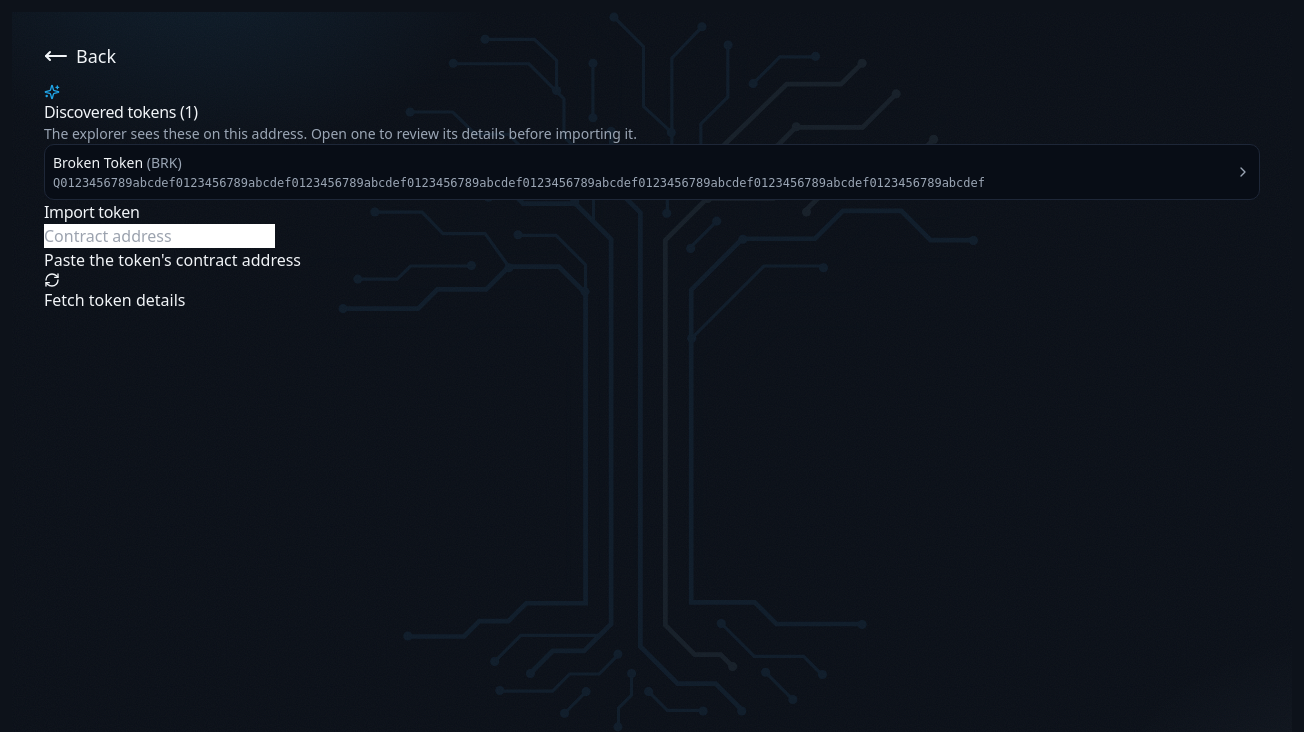
Test: ImportToken › surfaces a failed chain read for a discovered token on the manual field
The image size is (1304, 732).
Click the button with aria-label "Review Broken Token".
click(98, 162)  # box [44,144,1260,200]
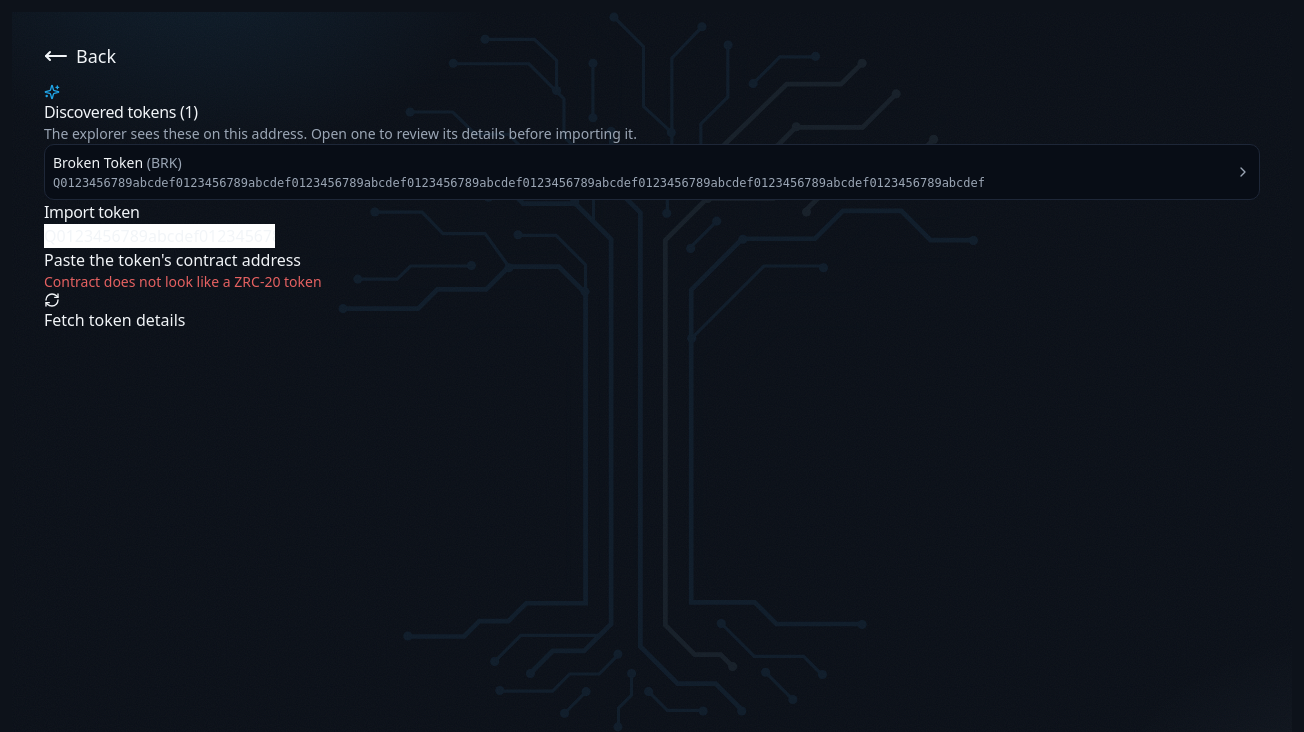
expect the text "Contract does not look like a ZRC-20 token" is shown: met, box [44,272,322,291]
expect the button "Fetch token details" is enabled: met, box [44,292,186,332]
